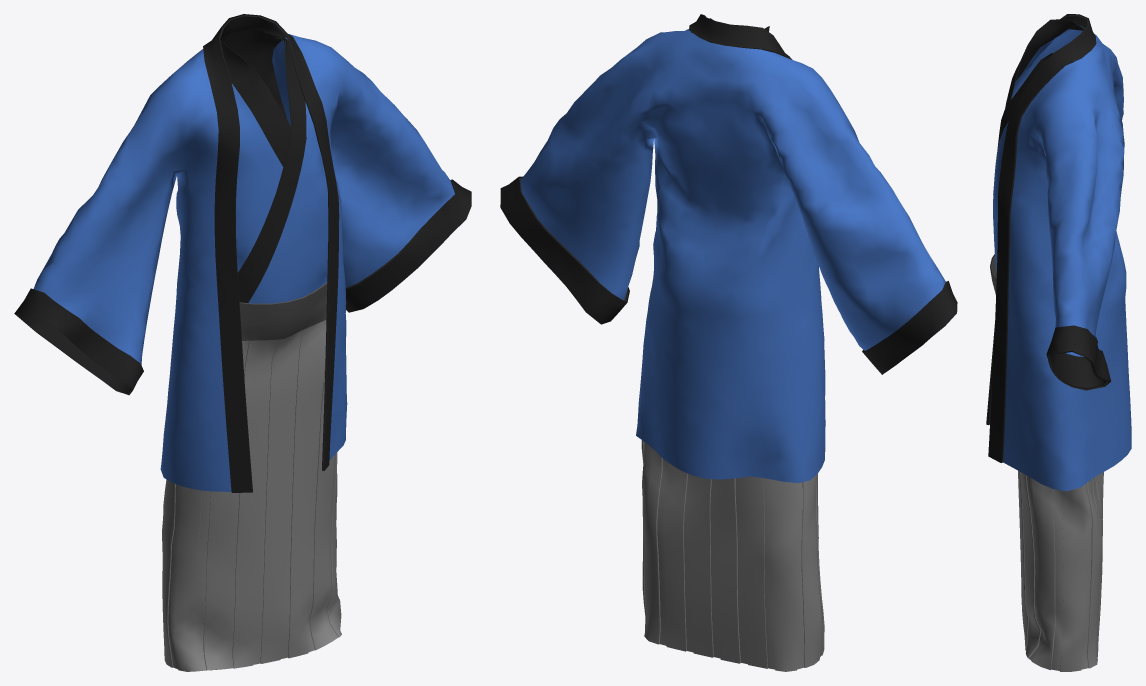
Rendered from kimono_boy.fbx.
The picture shows the model from 3 angles, left to right: view 1: azimuth 30°, elevation 25°; view 2: azimuth 150°, elevation 25°; view 3: azimuth 270°, elevation 25°; orthographic projection. The views are drawn at different scales.
Visible parts, largest first — view 1: Pattern2D_1009357, Pattern2D_1009358, Pattern2D_888600, Pattern2D_675455, Pattern2D_675453, Pattern2D_675457, Pattern2D_1009356, Pattern2D_916087, Pattern2D_977019, Pattern2D_1009355, Pattern2D_675459, Pattern2D_675461 (+13 smaller); view 2: Pattern2D_1009357, Pattern2D_1009355, Pattern2D_675465, Pattern2D_675467, Pattern2D_675469, Pattern2D_675473, Pattern2D_675471, Pattern2D_675475, Pattern2D_1009356, Pattern2D_675463, Pattern2D_1009358, Pattern2D_675466 (+5 smaller); view 3: Pattern2D_1009357, Pattern2D_1009358, Pattern2D_675477, Pattern2D_675451, Pattern2D_1009355, Pattern2D_675475, Pattern2D_675449, Pattern2D_675478, Pattern2D_675476, Pattern2D_1009354, Pattern2D_675453, Pattern2D_888600 (+5 smaller).
Part boxes in pixels (<box>): Pattern2D_1009357: <box>33,34,454,491</box>; Pattern2D_1009358: <box>203,14,339,492</box>; Pattern2D_888600: <box>248,37,328,303</box>; Pattern2D_675455: <box>260,332,298,663</box>; Pattern2D_675453: <box>288,321,323,658</box>; Pattern2D_675457: <box>232,340,272,668</box>; Pattern2D_1009356: <box>14,288,143,395</box>; Pattern2D_916087: <box>231,83,283,272</box>; Pattern2D_977019: <box>237,36,306,302</box>; Pattern2D_1009355: <box>345,179,471,312</box>; Pattern2D_675459: <box>203,491,232,670</box>; Pattern2D_675461: <box>174,486,202,671</box>; Pattern2D_1009357: <box>520,29,945,482</box>; Pattern2D_1009355: <box>500,176,629,324</box>; Pattern2D_675465: <box>771,480,796,671</box>; Pattern2D_675467: <box>742,476,767,668</box>; Pattern2D_675469: <box>716,478,740,663</box>; Pattern2D_675473: <box>664,463,687,651</box>; Pattern2D_675471: <box>690,476,713,657</box>; Pattern2D_675475: <box>642,443,662,644</box>; Pattern2D_1009356: <box>862,281,957,374</box>; Pattern2D_675463: <box>801,474,821,667</box>; Pattern2D_1009358: <box>689,14,792,59</box>; Pattern2D_675466: <box>763,478,775,669</box>; Pattern2D_1009357: <box>1003,26,1131,491</box>; Pattern2D_1009358: <box>986,14,1096,462</box>; Pattern2D_675477: <box>1059,487,1084,671</box>; Pattern2D_675451: <box>1031,479,1055,669</box>; Pattern2D_1009355: <box>1046,325,1111,390</box>; Pattern2D_675475: <box>1086,479,1102,668</box>; Pattern2D_675449: <box>1020,472,1041,658</box>; Pattern2D_675478: <box>1051,489,1063,670</box>; Pattern2D_675476: <box>1081,483,1091,669</box>; Pattern2D_1009354: <box>1005,19,1083,107</box>; Pattern2D_675453: <box>1018,471,1028,650</box>; Pattern2D_888600: <box>993,122,1008,271</box>.
Size of the model in its own units: 604 by 802 by 173.
